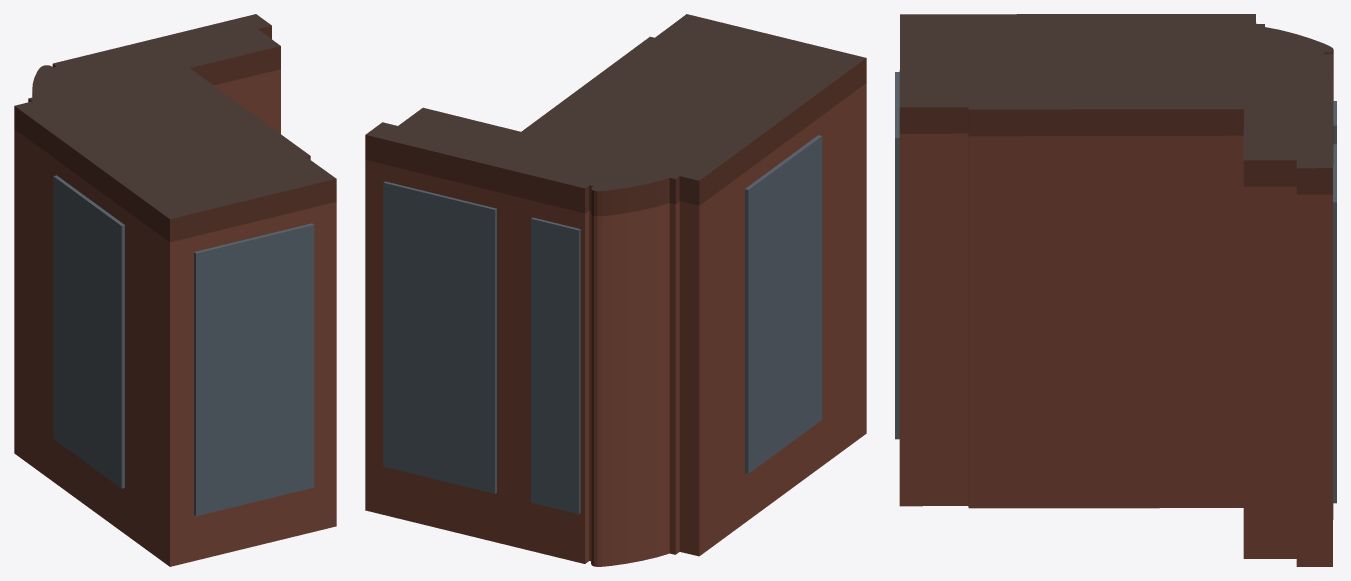
Rendered from 45_west_south_temple.glb.
The picture shows the model from 3 angles, left to right: view 1: azimuth 30°, elevation 25°; view 2: azimuth 150°, elevation 25°; view 3: azimuth 270°, elevation 25°; orthographic projection. The views are drawn at different scales.
Parts seen in each view (by area): view 1: 45_West_South_Temple; view 2: 45_West_South_Temple; view 3: 45_West_South_Temple.
Boxes of the visible parts, x1,y1,x2,y2 form: 45_West_South_Temple: (14,14,336,566); 45_West_South_Temple: (365,14,866,566); 45_West_South_Temple: (895,14,1336,566).
Bounding box in the file's own units: 37.75 × 45 × 45.2.
